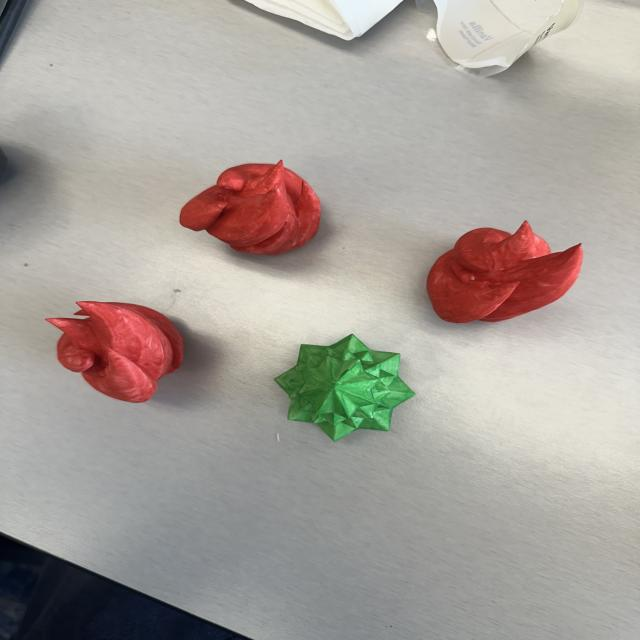fire: (426, 218, 586, 326), (45, 298, 188, 405), (178, 158, 324, 256)
tree: (275, 333, 419, 442)
